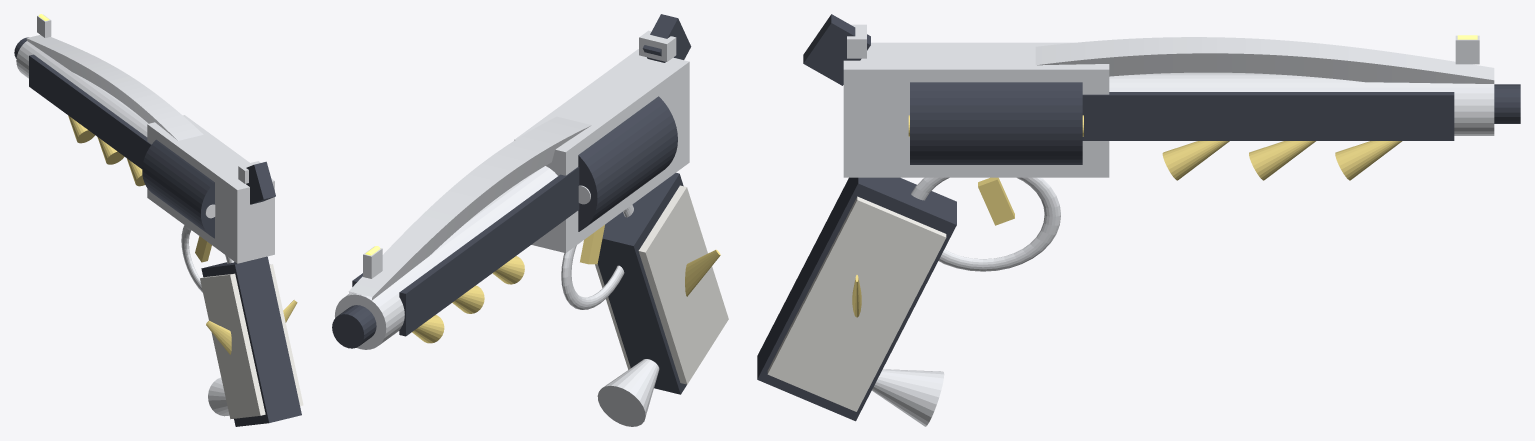
File: hawkmoon.glb
3 views of the same model, side by side, from view 1: azimuth 30°, elevation 25°; view 2: azimuth 150°, elevation 25°; view 3: azimuth 270°, elevation 25° (orthographic). The views are drawn at different scales.
Parts seen in each view (by area): view 1: GEO-hawkmoon_receiver_frame, GEO-hawkmoon_grip_core, GEO-hawkmoon_panel_L, GEO-hawkmoon_wing_shroud, GEO-hawkmoon_shroud_flank_-1, GEO-hawkmoon_revolver_cylinder, GEO-hawkmoon_barrel_main, GEO-hawkmoon_hammer, GEO-hawkmoon_panel_R, GEO-hawkmoon_pommel_beak, GEO-hawkmoon_trigger_guard, GEO-hawkmoon_insignia_L (+3 smaller); view 2: GEO-hawkmoon_receiver_frame, GEO-hawkmoon_panel_L, GEO-hawkmoon_wing_shroud, GEO-hawkmoon_shroud_flank_-1, GEO-hawkmoon_grip_core, GEO-hawkmoon_revolver_cylinder, GEO-hawkmoon_barrel_main, GEO-hawkmoon_pommel_beak, GEO-hawkmoon_bore_opening, GEO-hawkmoon_trigger_guard, GEO-hawkmoon_hammer, GEO-hawkmoon_sight_rear (+6 smaller); view 3: GEO-hawkmoon_panel_R, GEO-hawkmoon_receiver_frame, GEO-hawkmoon_shroud_flank_1, GEO-hawkmoon_revolver_cylinder, GEO-hawkmoon_wing_shroud, GEO-hawkmoon_grip_core, GEO-hawkmoon_barrel_main, GEO-hawkmoon_trigger_guard, GEO-hawkmoon_pommel_beak, GEO-hawkmoon_hammer, GEO-hawkmoon_talon_claw_0, GEO-hawkmoon_talon_claw_1 (+3 smaller).
Part boxes in pixels (<box>): GEO-hawkmoon_receiver_frame: <box>147,115,274,263</box>; GEO-hawkmoon_grip_core: <box>201,256,301,426</box>; GEO-hawkmoon_panel_L: <box>200,273,265,419</box>; GEO-hawkmoon_wing_shroud: <box>26,35,203,140</box>; GEO-hawkmoon_shroud_flank_-1: <box>29,54,151,168</box>; GEO-hawkmoon_revolver_cylinder: <box>142,139,214,238</box>; GEO-hawkmoon_barrel_main: <box>16,41,148,136</box>; GEO-hawkmoon_hammer: <box>246,161,275,204</box>; GEO-hawkmoon_panel_R: <box>269,264,303,405</box>; GEO-hawkmoon_pommel_beak: <box>208,377,229,416</box>; GEO-hawkmoon_trigger_guard: <box>181,225,234,292</box>; GEO-hawkmoon_insignia_L: <box>206,320,231,354</box>; GEO-hawkmoon_receiver_frame: <box>514,49,689,253</box>; GEO-hawkmoon_panel_L: <box>638,185,728,384</box>; GEO-hawkmoon_wing_shroud: <box>348,116,591,300</box>; GEO-hawkmoon_shroud_flank_-1: <box>399,167,579,336</box>; GEO-hawkmoon_grip_core: <box>597,173,686,394</box>; GEO-hawkmoon_revolver_cylinder: <box>578,96,677,231</box>; GEO-hawkmoon_barrel_main: <box>335,166,557,349</box>; GEO-hawkmoon_pommel_beak: <box>597,359,659,426</box>; GEO-hawkmoon_bore_opening: <box>332,305,376,348</box>; GEO-hawkmoon_trigger_guard: <box>561,204,633,309</box>; GEO-hawkmoon_hammer: <box>642,14,691,62</box>; GEO-hawkmoon_sight_rear: <box>639,30,676,61</box>; GEO-hawkmoon_panel_R: <box>767,196,946,411</box>; GEO-hawkmoon_receiver_frame: <box>843,42,1109,177</box>; GEO-hawkmoon_shroud_flank_1: <box>1082,92,1454,140</box>; GEO-hawkmoon_revolver_cylinder: <box>910,82,1082,164</box>; GEO-hawkmoon_wing_shroud: <box>1035,37,1494,83</box>; GEO-hawkmoon_grip_core: <box>757,177,956,421</box>; GEO-hawkmoon_barrel_main: <box>1109,72,1494,135</box>; GEO-hawkmoon_trigger_guard: <box>911,177,1060,271</box>; GEO-hawkmoon_pommel_beak: <box>872,369,944,426</box>; GEO-hawkmoon_hammer: <box>803,14,870,85</box>; GEO-hawkmoon_talon_claw_0: <box>1162,141,1229,180</box>; GEO-hawkmoon_talon_claw_1: <box>1249,141,1315,180</box>.
Size of the model in its own units: 0.1173 by 0.3372 by 0.5752.
